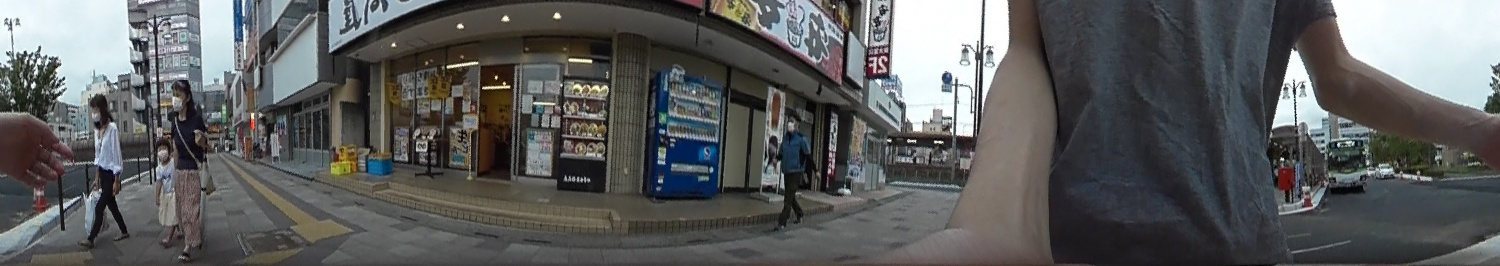person: (166, 77, 208, 260), (84, 90, 127, 241), (775, 113, 805, 228), (150, 139, 182, 241)
